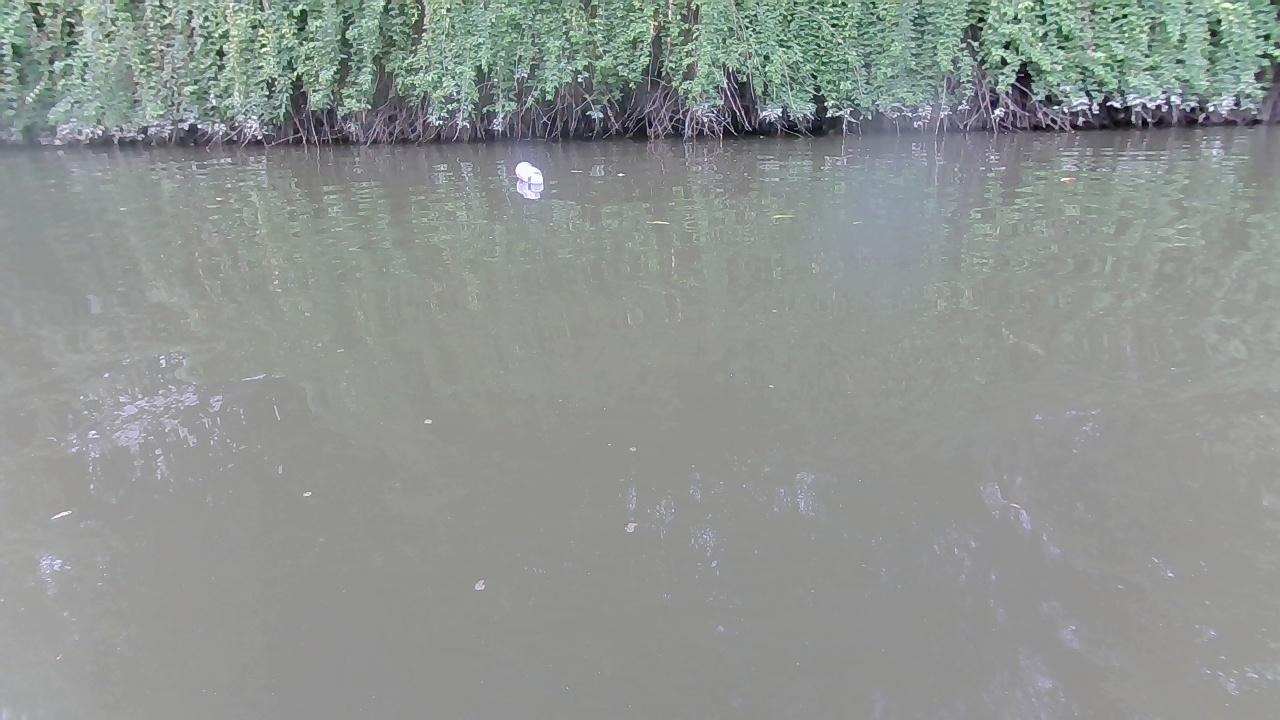bottle: (513, 156, 546, 188)
